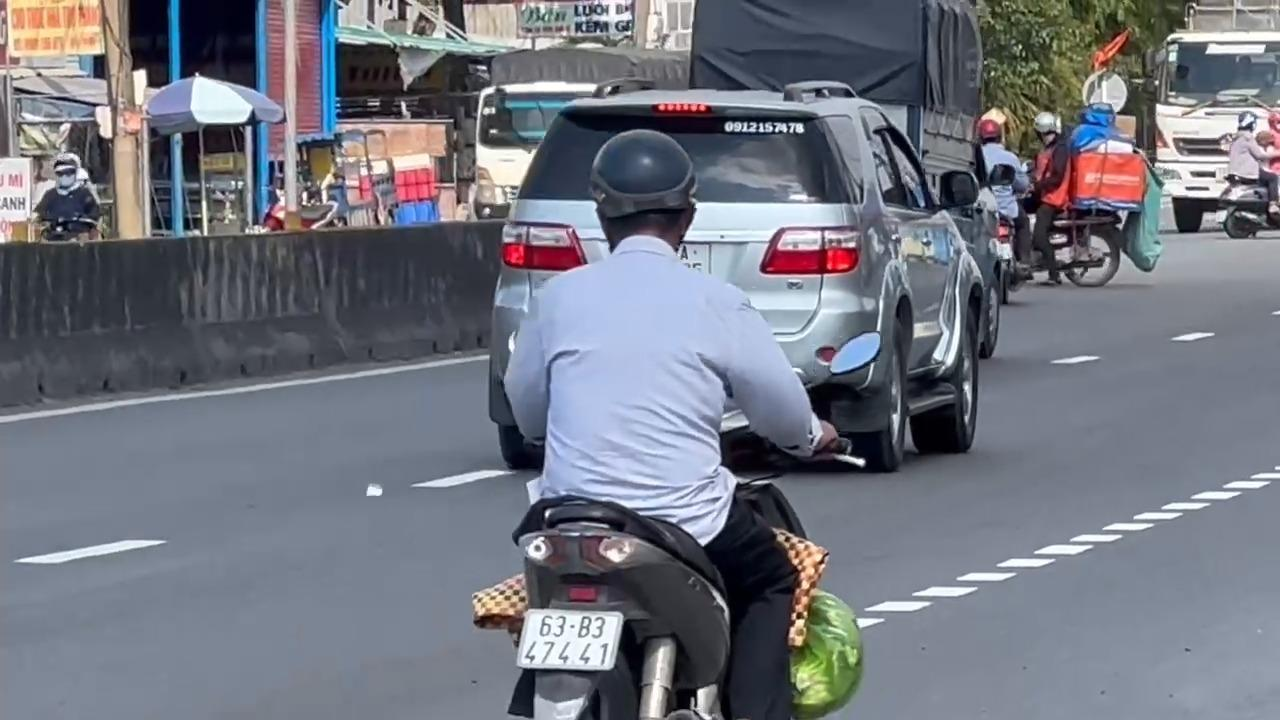bien_so: (514, 607, 624, 671)
